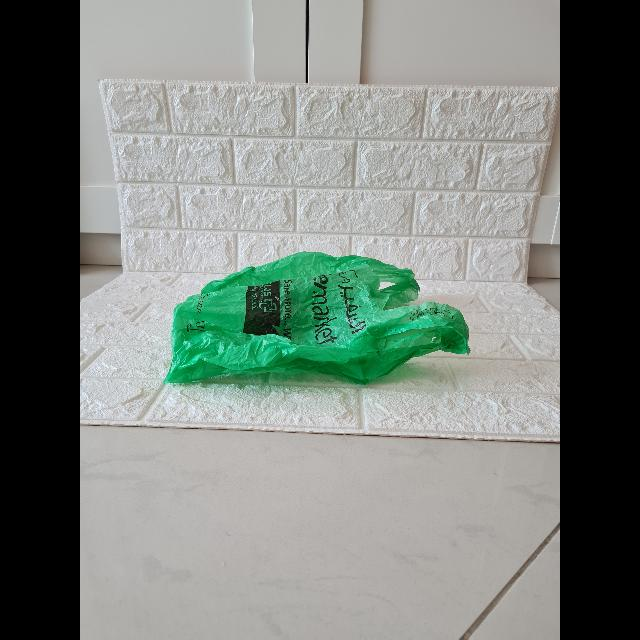plastic_bag: (156, 237, 480, 397)
